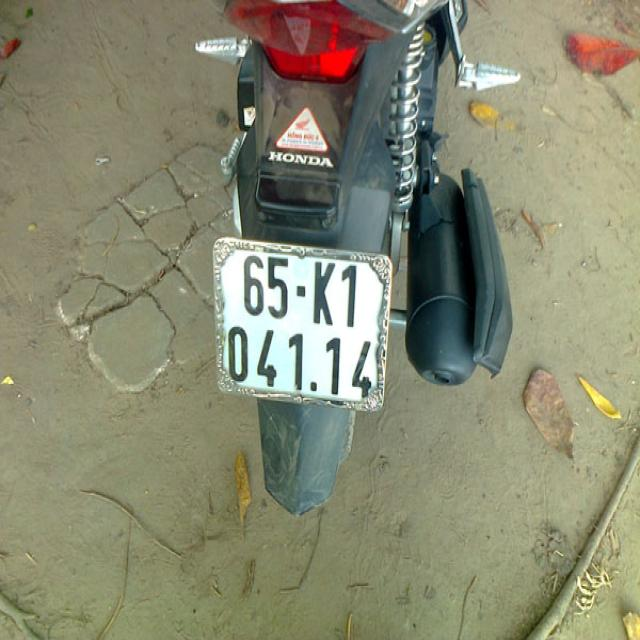bienxe: (210, 225, 392, 432)
